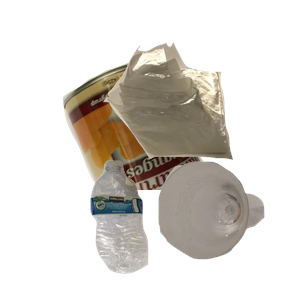glass: (156, 159, 300, 300)
metal: (60, 58, 300, 238)
plastic: (88, 158, 229, 300)
trash: (101, 40, 300, 192)
